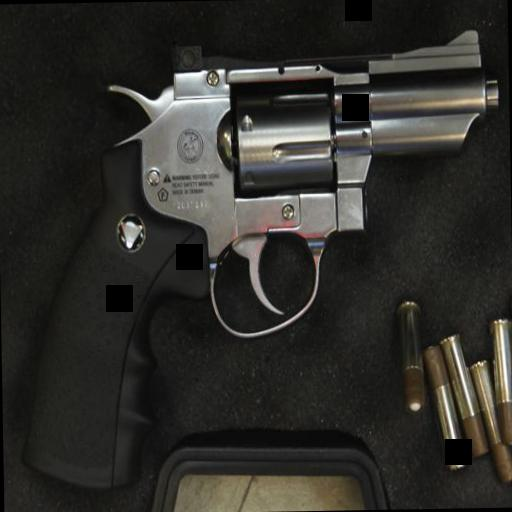Handgun: (8, 29, 503, 488)
